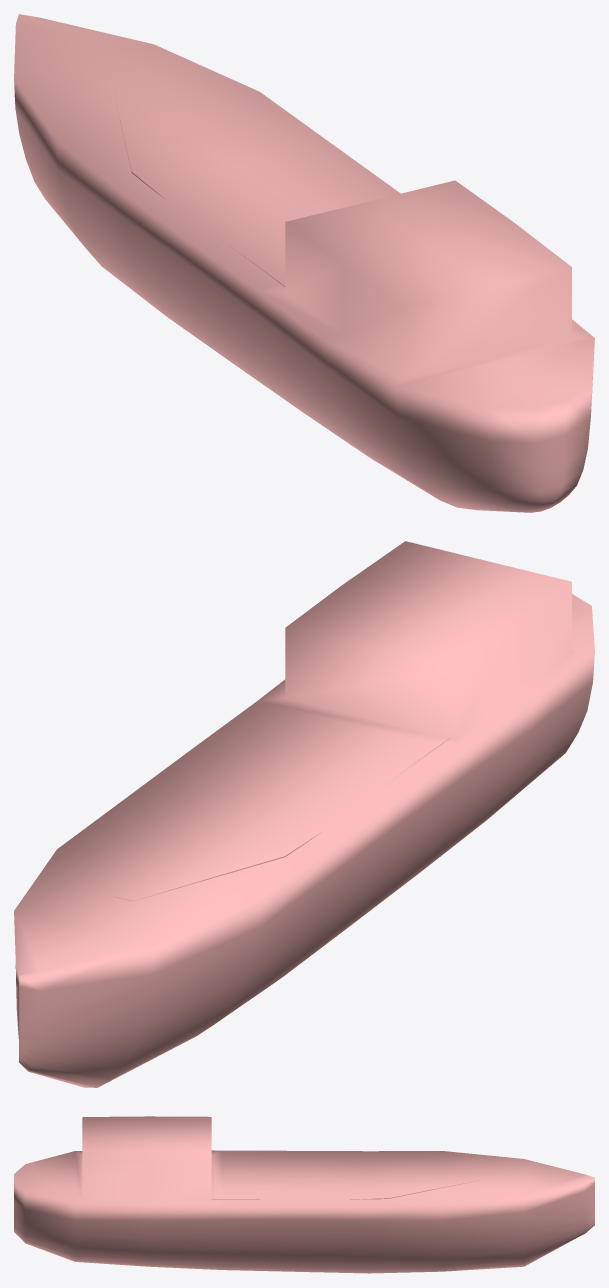
File: boatPink.gltf
3 renders of one model, top to bottom at view 1: azimuth 30°, elevation 25°; view 2: azimuth 150°, elevation 25°; view 3: azimuth 270°, elevation 25°, orthographic. The views are drawn at different scales.
Visible parts, largest first — view 1: Cylinder; view 2: Cylinder; view 3: Cylinder.
Boxes of the visible parts, bbox=[...] form: Cylinder: bbox=[14, 14, 594, 512]; Cylinder: bbox=[14, 541, 594, 1087]; Cylinder: bbox=[14, 1116, 594, 1273].
Size of the model in its own units: 3.05 by 3.31 by 13.31.
